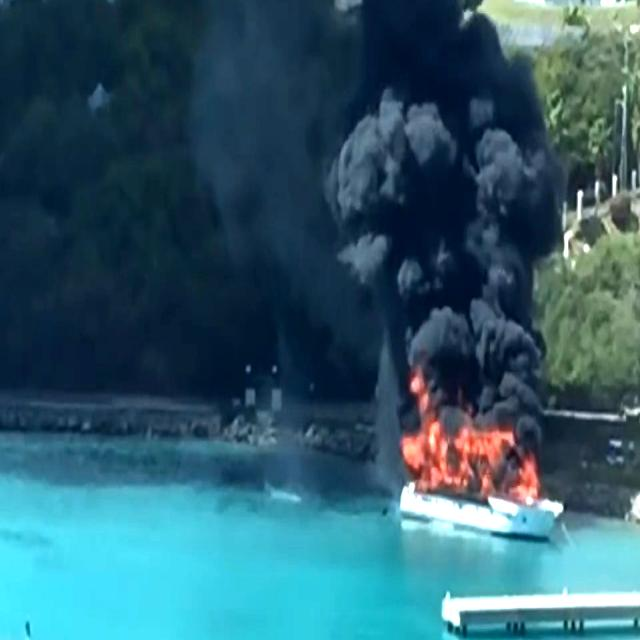fire: (402, 389, 529, 515)
smoke: (355, 30, 549, 378)
